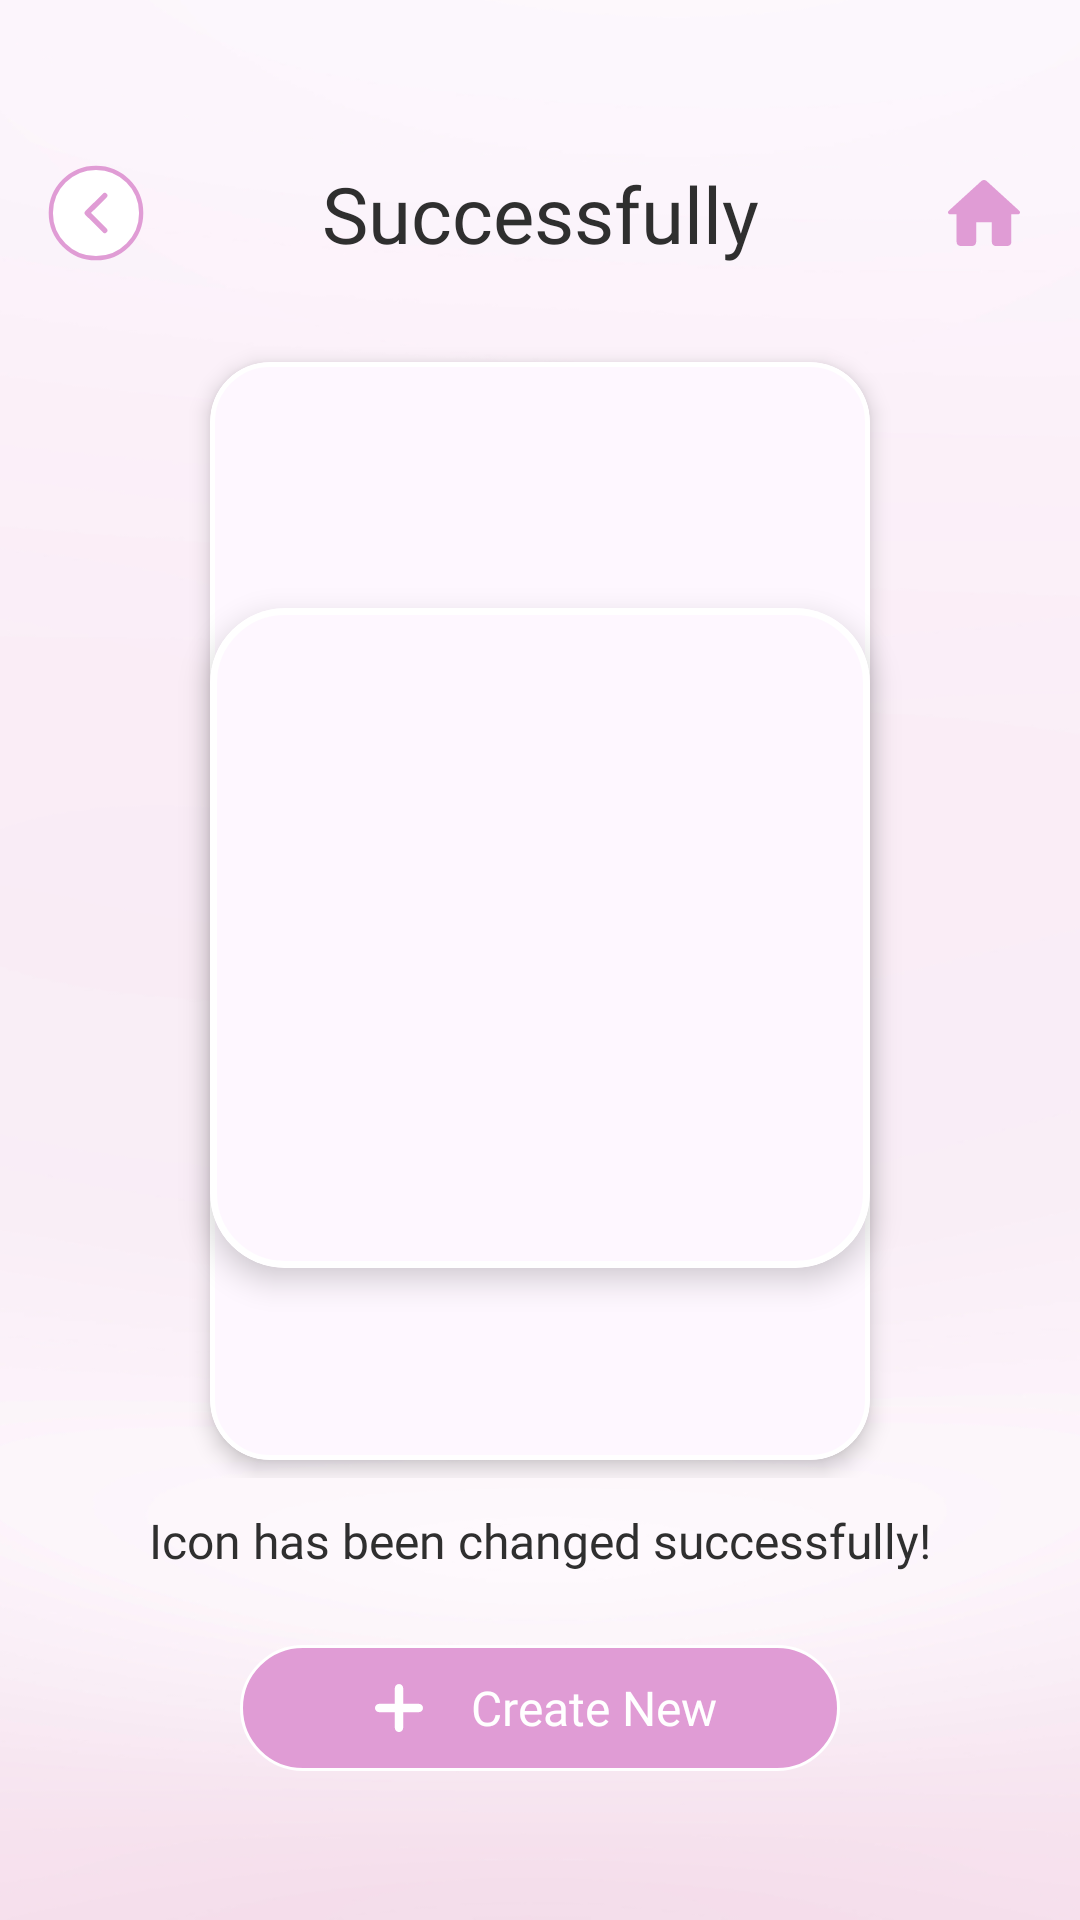

Point at icon controls on the screen. Image size 1080px×1920px, points as (x=x, y=y).
imv back: (x=96, y=213)
imv home: (x=984, y=213)
imv plus creat: (x=399, y=1708)
